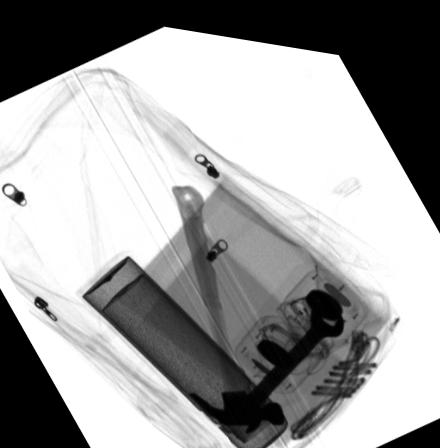Hammer: (170, 178, 284, 418)
Wrench: (222, 296, 344, 427)
